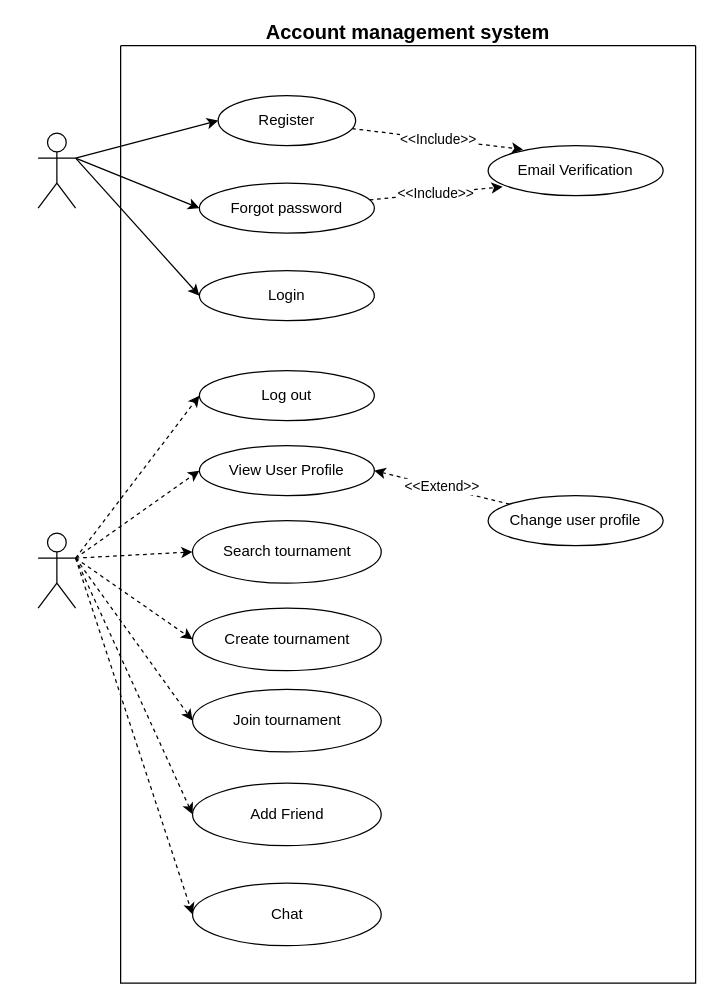
Image size: 718x1005. Some labels were removed from this diagram. Each missing label, with the centre of its shape:
Logged in user: (x=56, y=570)
Visitor: (x=56, y=170)
